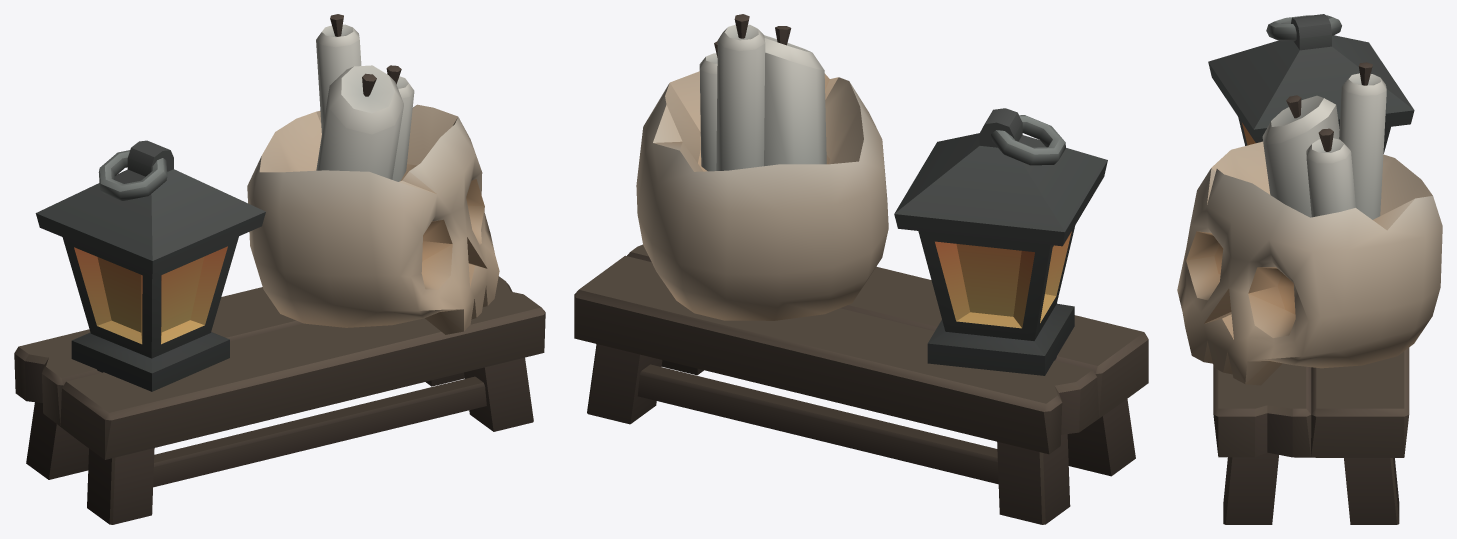
Rendered from bench-decorated.glb.
The picture shows the model from 3 angles, left to right: view 1: azimuth 30°, elevation 25°; view 2: azimuth 150°, elevation 25°; view 3: azimuth 270°, elevation 25°; orthographic projection. The views are drawn at different scales.
Parts seen in each view (by area): view 1: bench-decorated; view 2: bench-decorated; view 3: bench-decorated.
Boxes of the visible parts, x1,y1,x2,y2 form: bench-decorated: (14, 14, 545, 524); bench-decorated: (574, 14, 1148, 524); bench-decorated: (1177, 14, 1442, 524).
Size of the model in its own units: 0.7155 by 0.6 by 0.3638.
